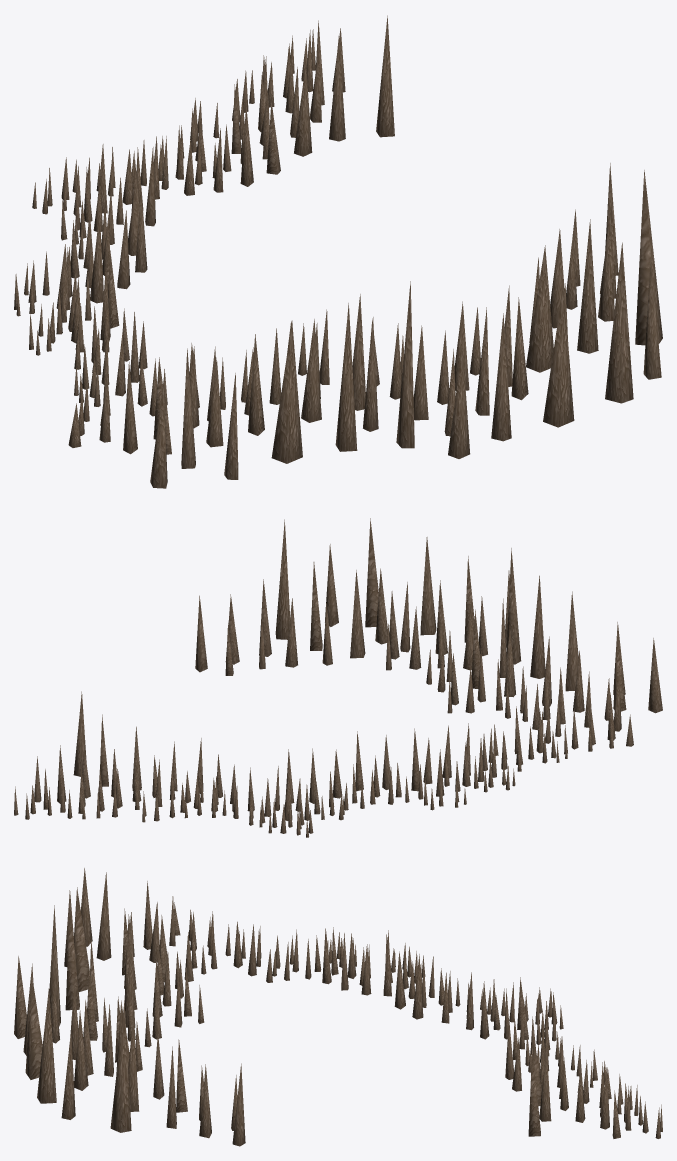
The model's file is area_02_8.FBX.
The picture shows the model from 3 angles, top to bottom: view 1: azimuth 30°, elevation 25°; view 2: azimuth 150°, elevation 25°; view 3: azimuth 270°, elevation 25°; orthographic projection. The views are drawn at different scales.
Parts seen in each view (by area): view 1: area_02_8; view 2: area_02_8; view 3: area_02_8.
Boxes of the visible parts, x1=… form: area_02_8: x1=14, y1=15, x2=662, y2=488; area_02_8: x1=14, y1=518, x2=662, y2=837; area_02_8: x1=14, y1=868, x2=662, y2=1146.
Bounding box in the file's own units: 93.23 × 26.21 × 120.
